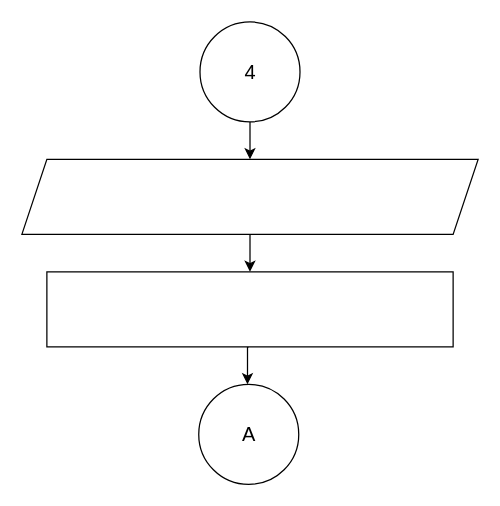
Image size: 500x506. Some labels were removed from this diagram. The shapes that lost their labels are listed below. From the top down, each one's centre as x and y in pixels, then its label:
the point at 249,196: Enter the book no.which you want to delete:
the point at 249,309: The record has been successfully deleted from the data file.
